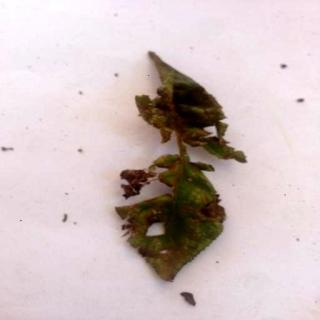Brown Blight: (116, 52, 248, 307)
